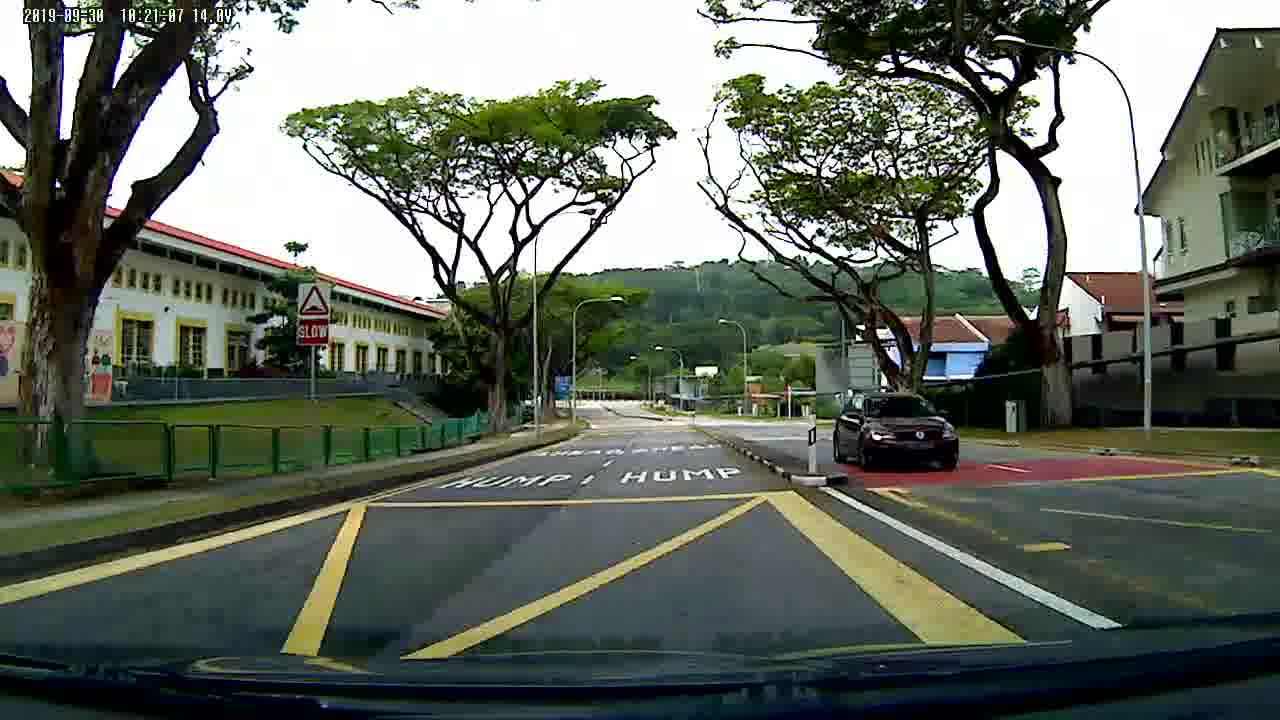car: (830, 390, 963, 469)
